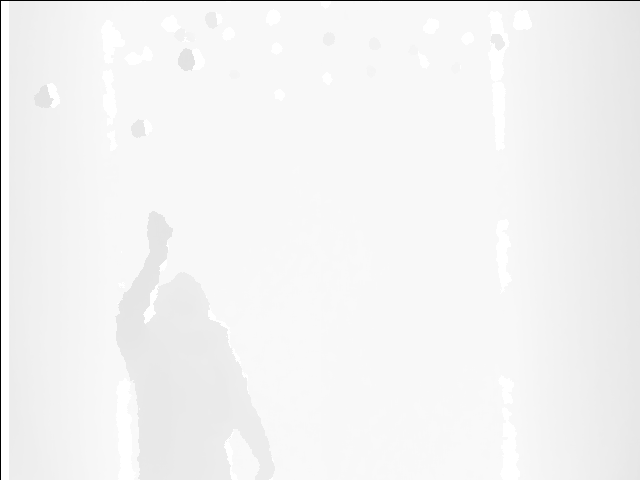hand: (142, 208, 172, 259)
